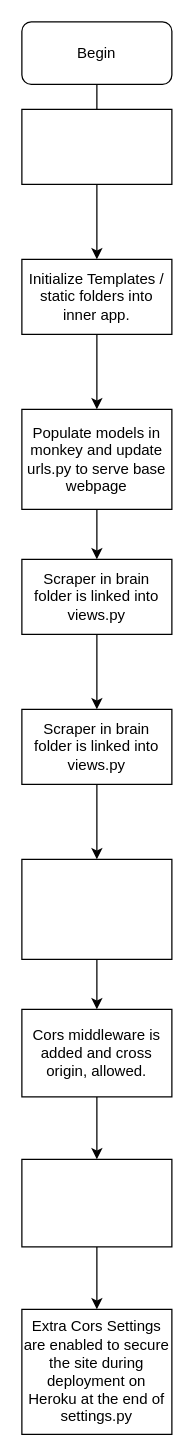
The diagram is 194 pixels wide and 1456 high, and some of its shapes have lost their labels. The box of each missing label's shape, as (x1, y1, x2, y2) in pixels:
A custom return_data view is defined that acts as an API to serve the frontend: (21, 858, 172, 959)
Front end is purely CDN Vue and Vuetify: (21, 1158, 172, 1247)
Initialize Django Project & Inner Django App: (21, 108, 172, 184)
